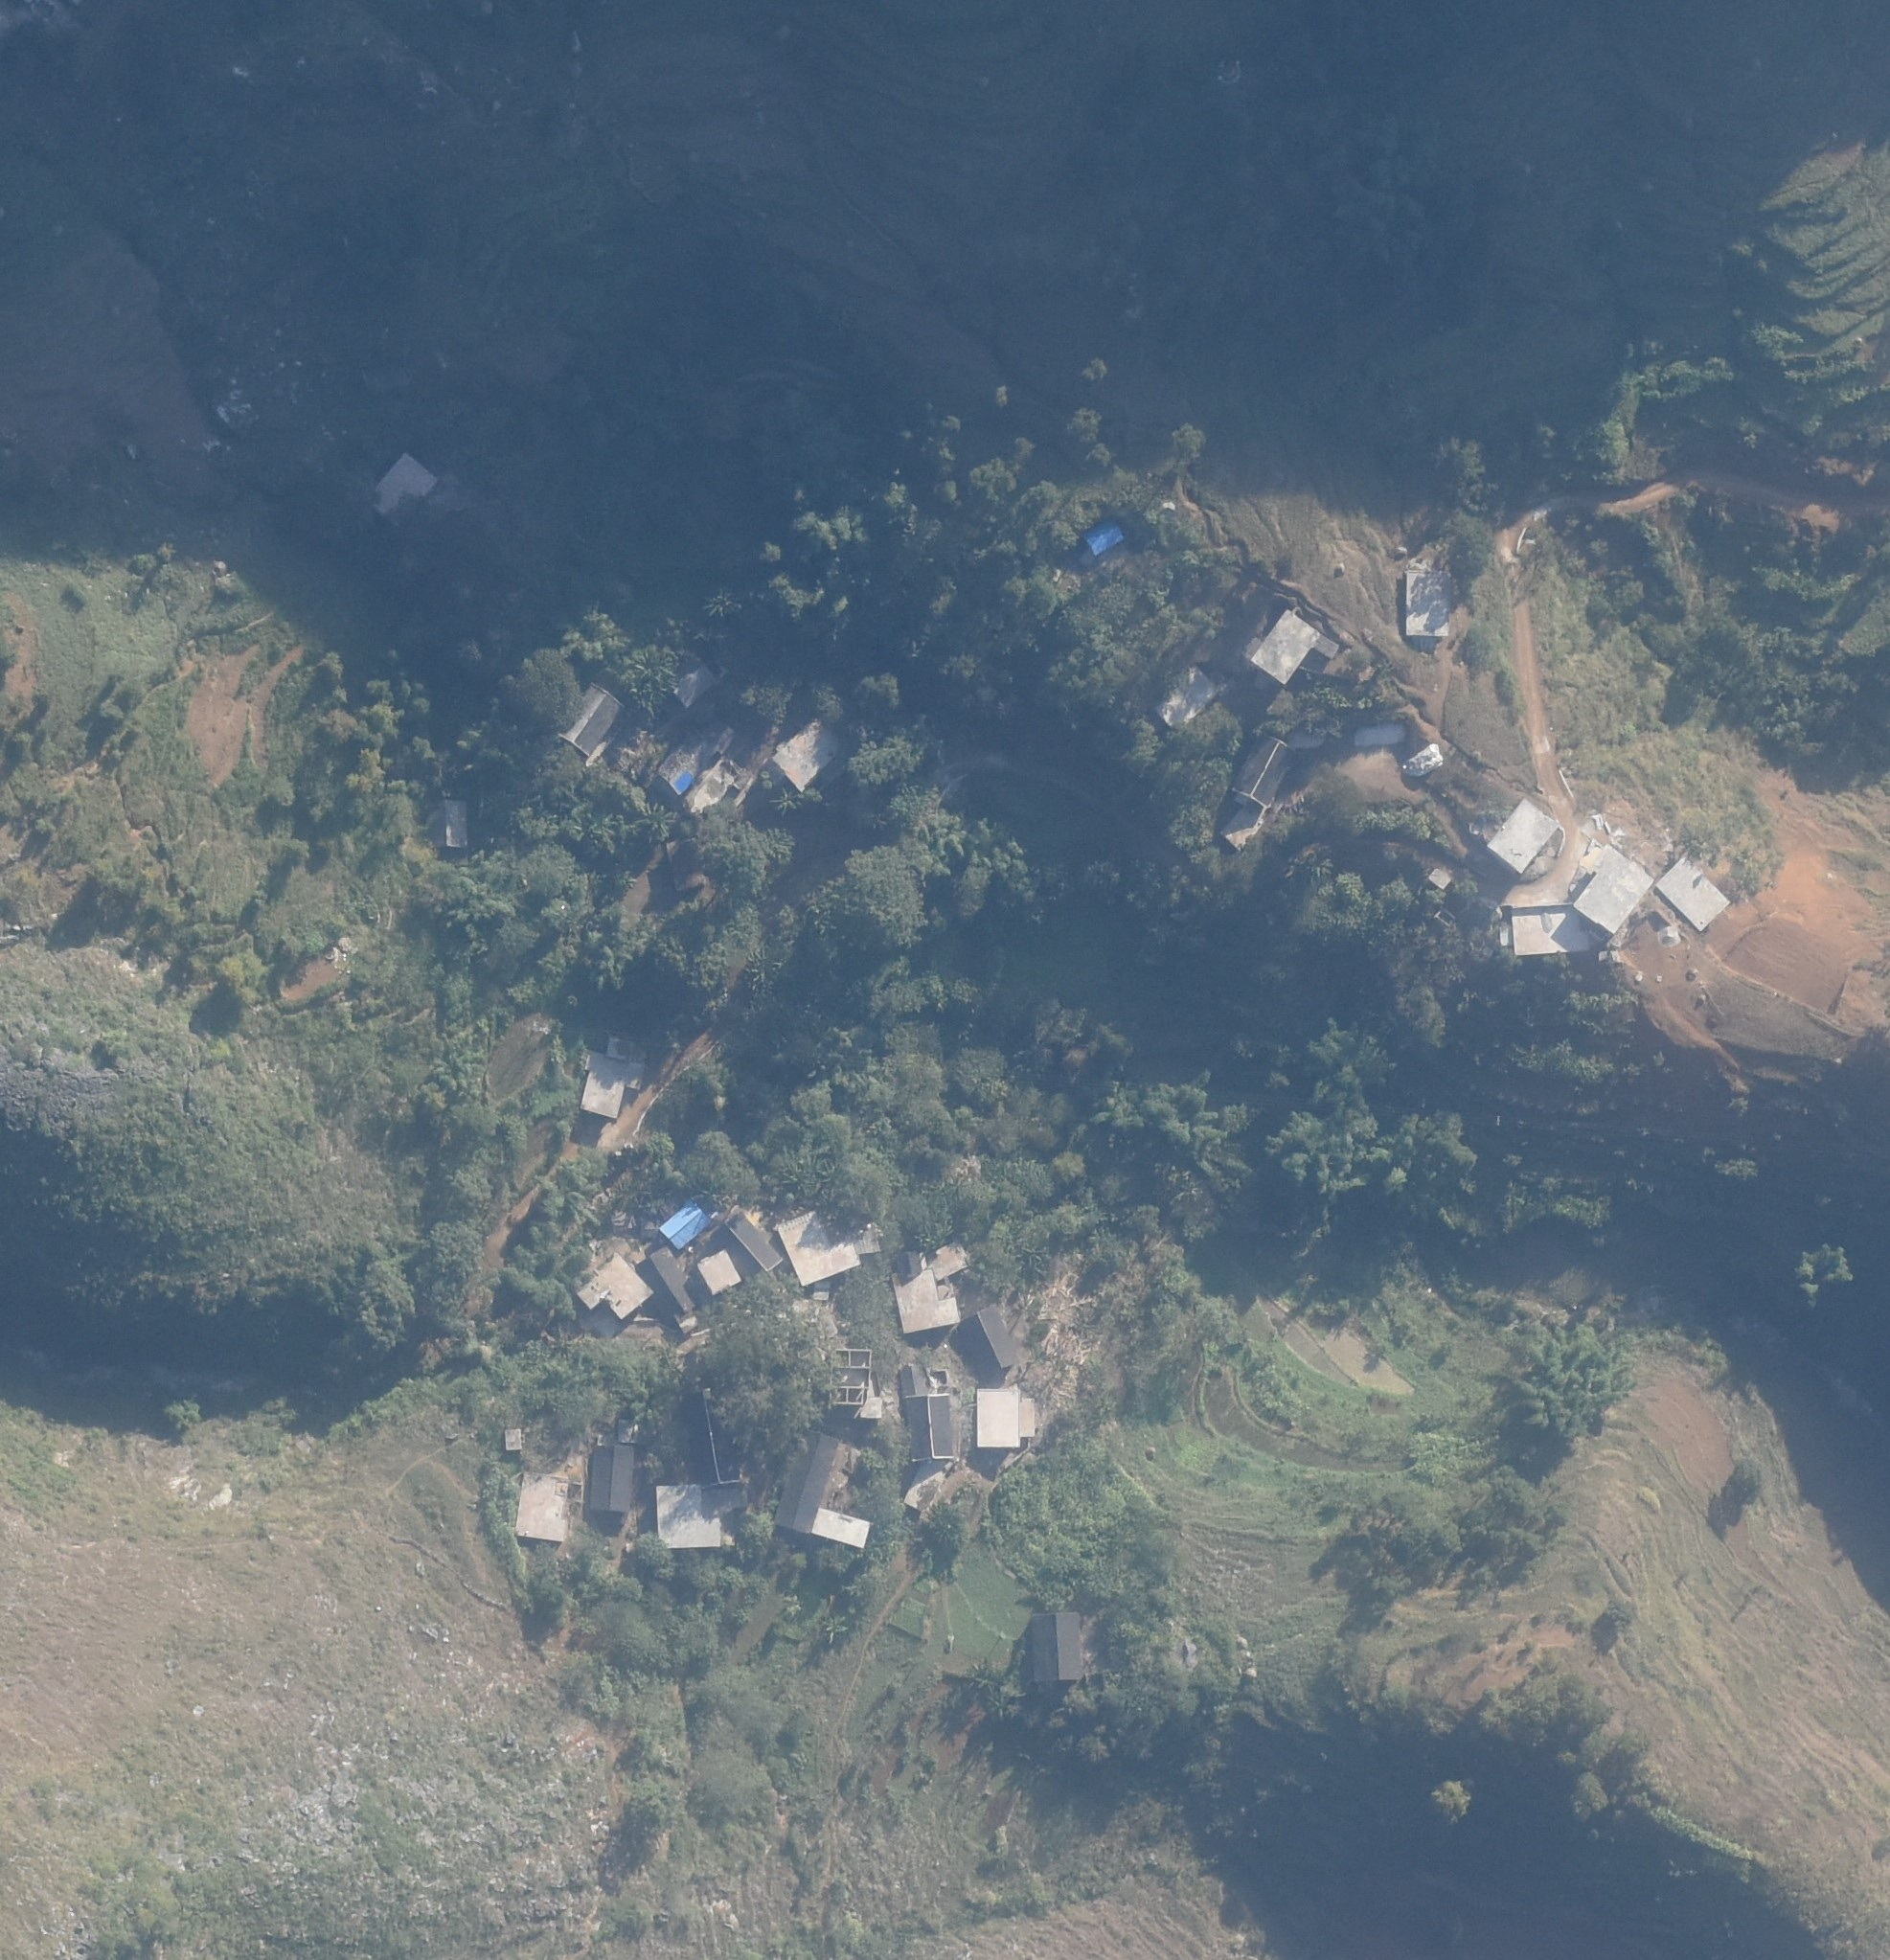building: (1573, 845, 1655, 933), (775, 1205, 861, 1285), (770, 1434, 837, 1535), (676, 1390, 745, 1487), (1252, 609, 1340, 683), (890, 1253, 963, 1336), (1484, 798, 1560, 877), (653, 1484, 748, 1547), (774, 716, 846, 794), (579, 1035, 646, 1117), (899, 1365, 957, 1460), (1657, 856, 1729, 931), (1228, 729, 1291, 809), (1501, 903, 1598, 954), (371, 451, 437, 525), (560, 682, 625, 757), (579, 1251, 653, 1314), (1151, 664, 1218, 733), (961, 1303, 1023, 1375), (1027, 1610, 1088, 1680), (514, 1470, 575, 1541), (826, 1349, 883, 1420), (644, 1245, 695, 1323), (977, 1386, 1038, 1449), (725, 1209, 783, 1276), (1401, 572, 1451, 636), (658, 653, 715, 710), (590, 1441, 633, 1509), (812, 1505, 873, 1551), (428, 797, 468, 852), (699, 1250, 740, 1295), (926, 1242, 969, 1282), (1355, 726, 1412, 746), (1428, 867, 1450, 889), (507, 1426, 524, 1450)
prefabricated-house: (660, 1198, 711, 1249), (1082, 516, 1125, 557)
